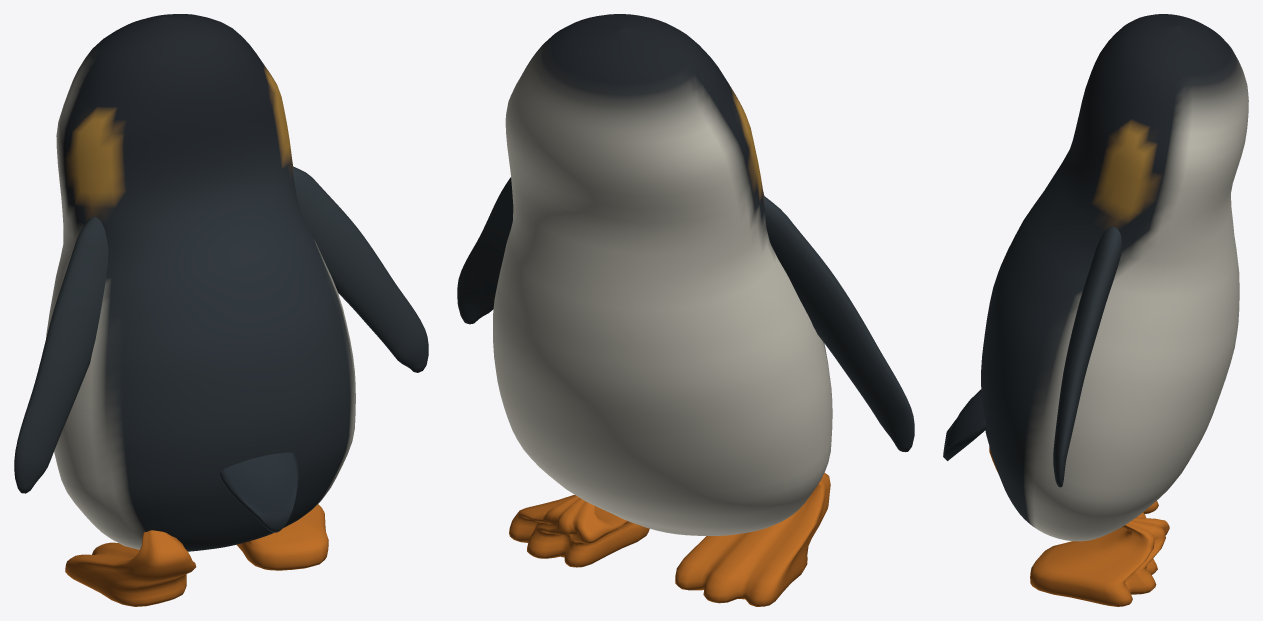
The model's file is candidate.glb.
3 views of the same model, side by side, from view 1: azimuth 30°, elevation 25°; view 2: azimuth 150°, elevation 25°; view 3: azimuth 270°, elevation 25° (orthographic). The views are drawn at different scales.
Parts seen in each view (by area): view 1: RearBlockout; view 2: RearBlockout; view 3: RearBlockout.
Part boxes in pixels (<box>): RearBlockout: <box>14,14,428,606</box>; RearBlockout: <box>457,14,914,606</box>; RearBlockout: <box>943,14,1248,606</box>.
Bounding box in the file's own units: 1.42 × 1.69 × 0.8989.
